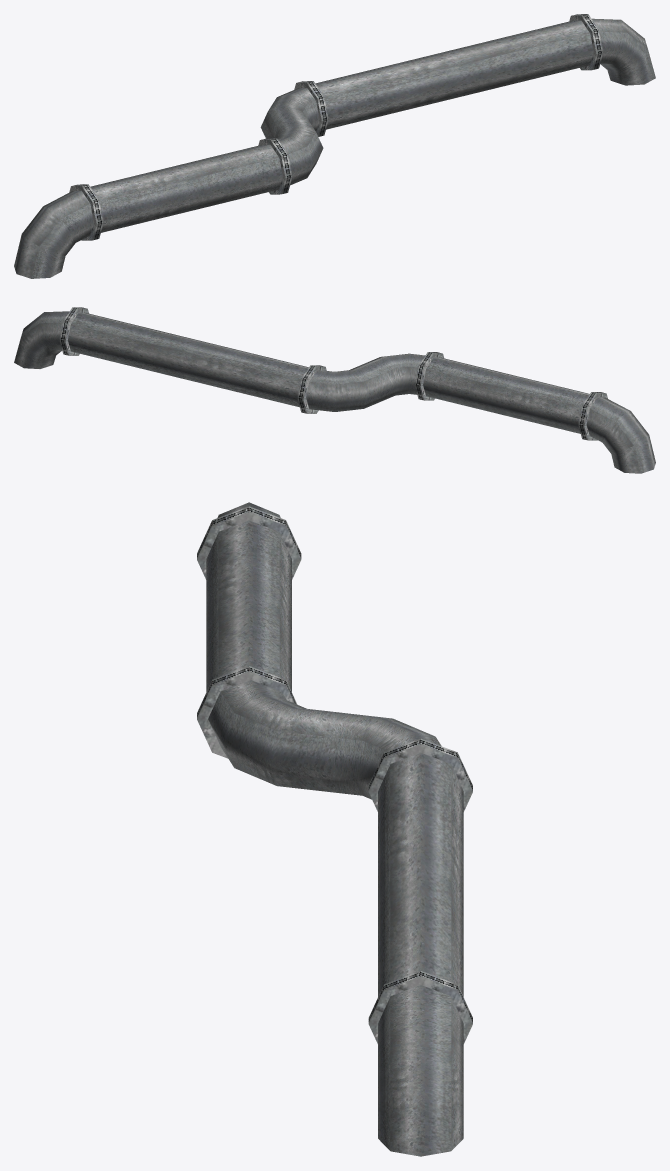
The model's file is s_bend_grey_8m.fbx.
3 views of the same model, one above another, from view 1: azimuth 30°, elevation 25°; view 2: azimuth 150°, elevation 25°; view 3: azimuth 270°, elevation 25° (orthographic). The views are drawn at different scales.
Visible parts, largest first — view 1: mesh_0; view 2: mesh_0; view 3: mesh_0.
Boxes of the visible parts, x1=… form: mesh_0: x1=14, y1=14, x2=655, y2=278; mesh_0: x1=14, y1=307, x2=655, y2=473; mesh_0: x1=197, y1=502, x2=472, y2=1156.
Size of the model in its own units: 800 by 80.33 by 161.
1 material, 1 textured.
